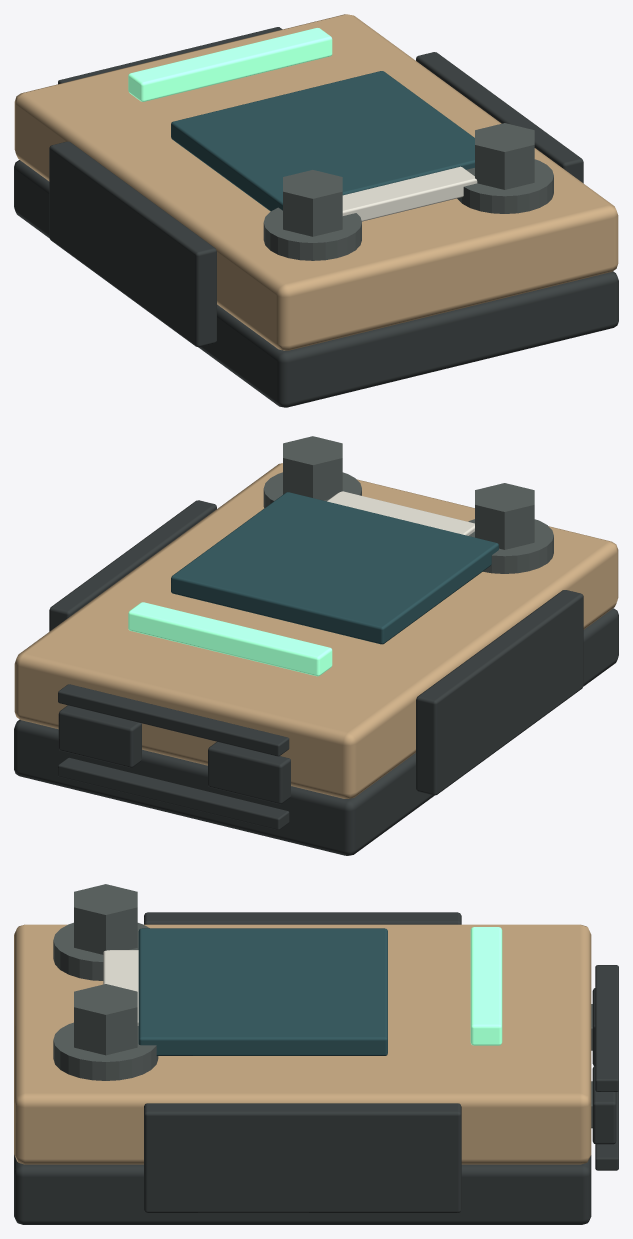
Rendered from public-library-and-reading-garden-public-library-and-r-8612ad32__30910.glb.
3 renders of one model, top to bottom at view 1: azimuth 30°, elevation 25°; view 2: azimuth 150°, elevation 25°; view 3: azimuth 270°, elevation 25°, orthographic. The views are drawn at different scales.
Visible parts, largest first — view 1: public-library-and-reading-garden-membership-card-scanner; view 2: public-library-and-reading-garden-membership-card-scanner; view 3: public-library-and-reading-garden-membership-card-scanner.
Boxes of the visible parts, x1,y1,x2,y2 form: public-library-and-reading-garden-membership-card-scanner: [14, 14, 618, 407]; public-library-and-reading-garden-membership-card-scanner: [14, 436, 618, 855]; public-library-and-reading-garden-membership-card-scanner: [14, 884, 618, 1224].
Size of the model in its own units: 0.182 by 0.08 by 0.2305.
